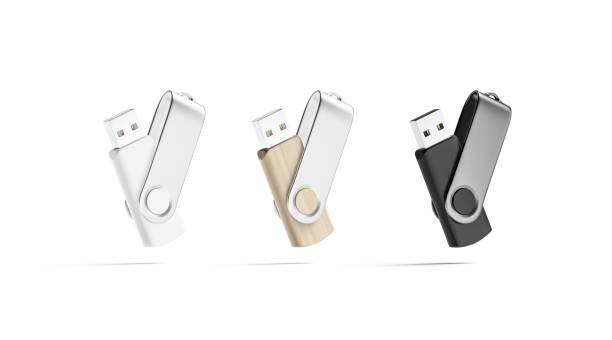USB Flash Drive: (409, 90, 512, 249), (252, 90, 355, 249), (104, 90, 207, 248)
